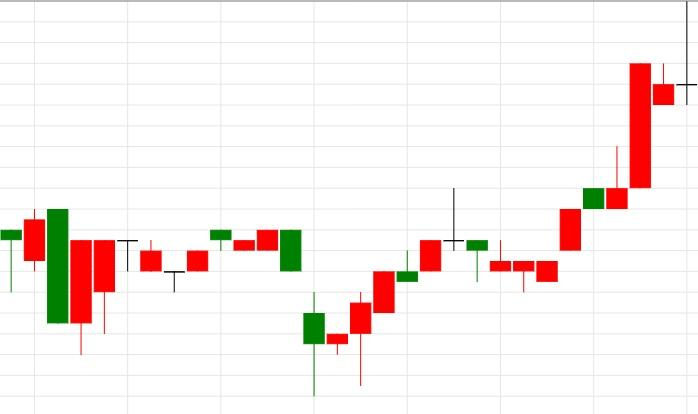bearish_engulfing_fall: (164, 229, 302, 293)
evening_star_fall: (302, 188, 488, 396)
shooting_star_fall: (536, 146, 628, 283)
